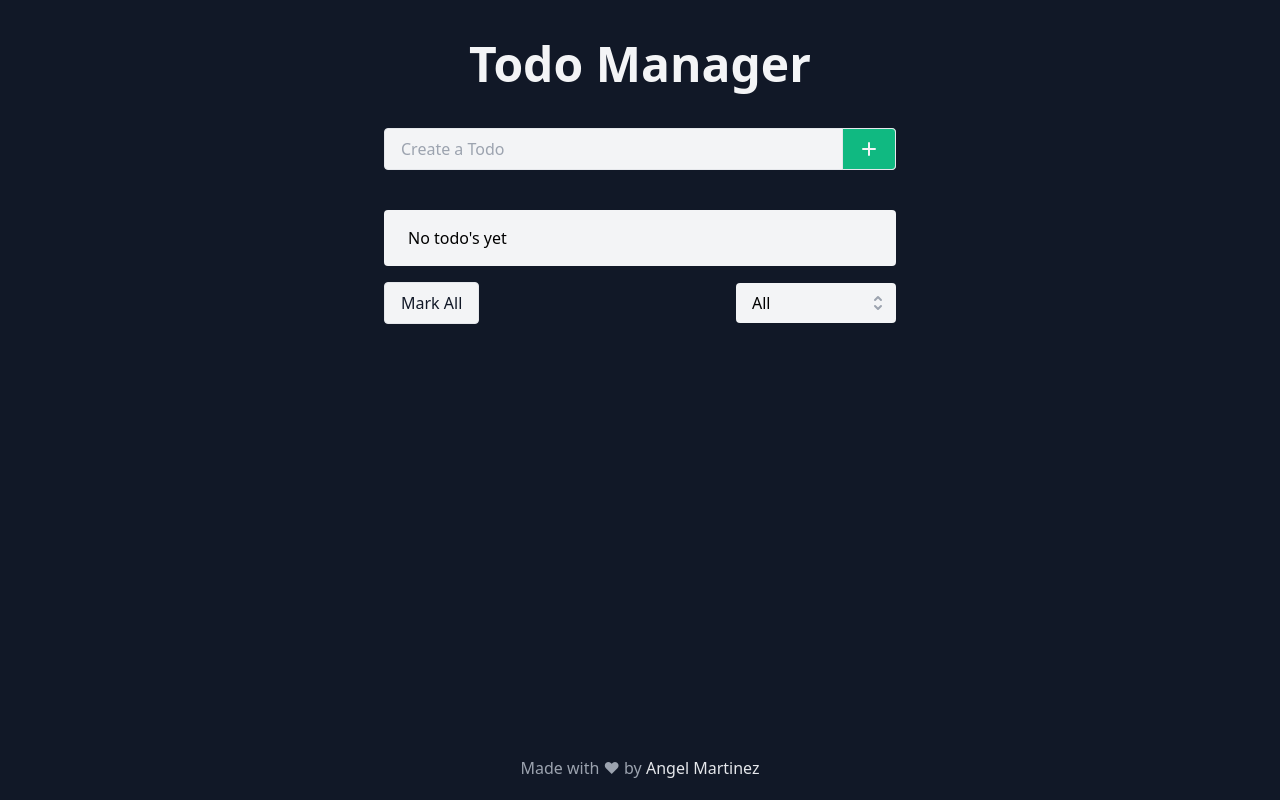
App › should be able to create a to-do
The image size is (1280, 800).
Type "Go to Grocery Store" into the field with placeholder "Create a Todo" at (640, 149), box [384,128,896,170]
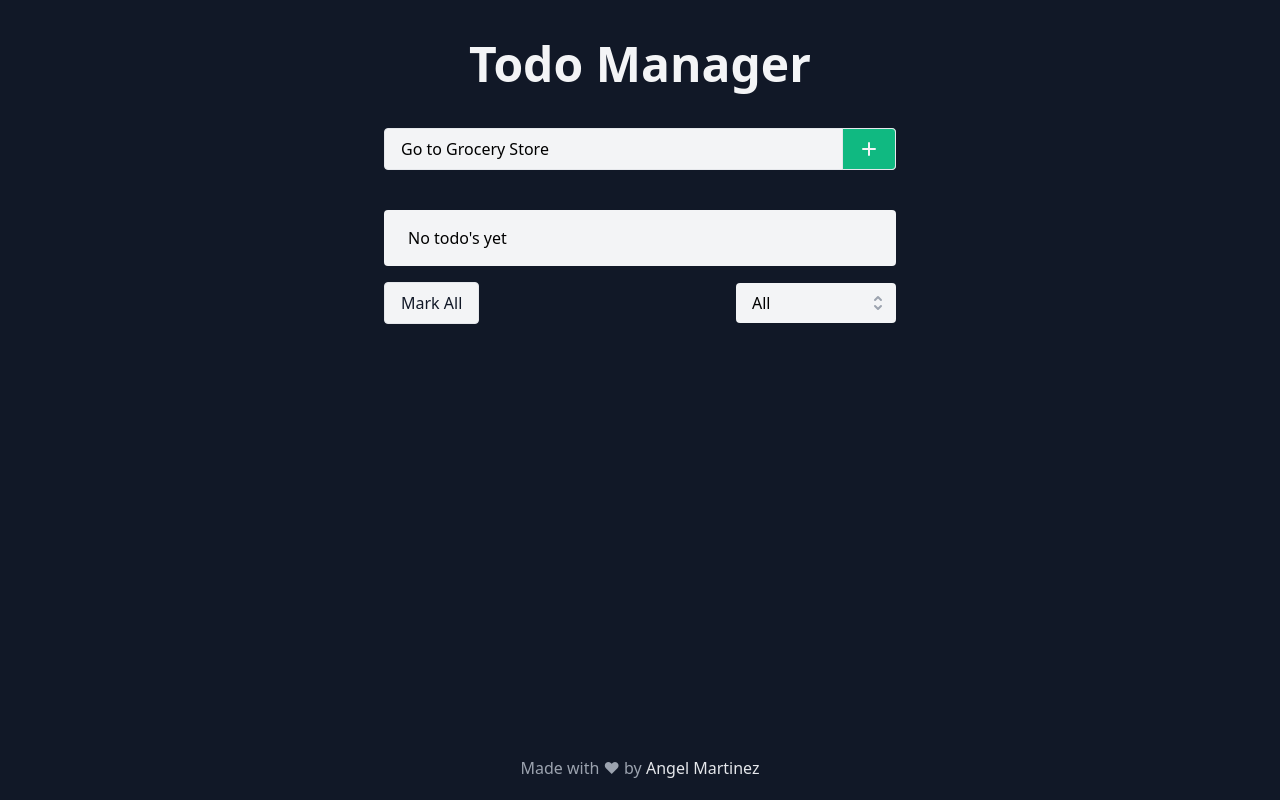
Click the button named "create" at (869, 149), box [842,128,896,170]
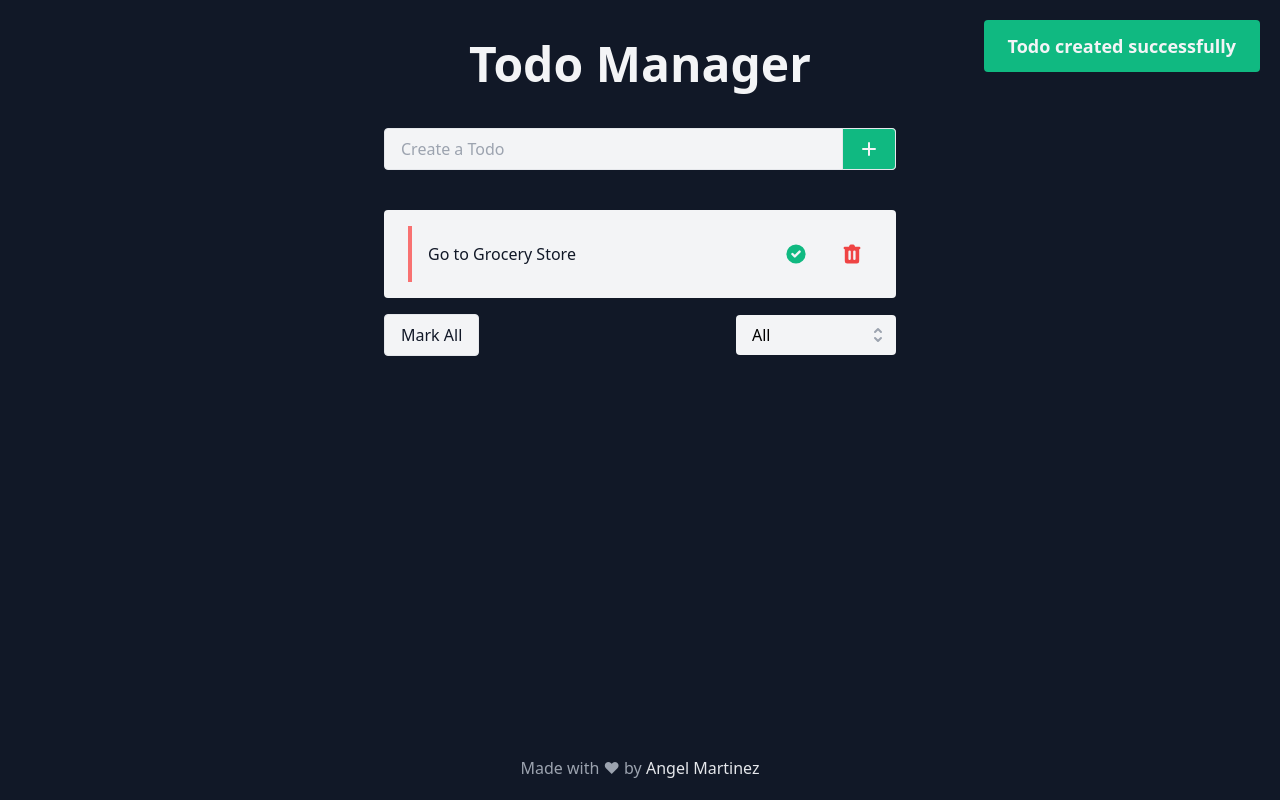
Check: the text "Go to Grocery Store" is shown, box [428,242,576,266]
